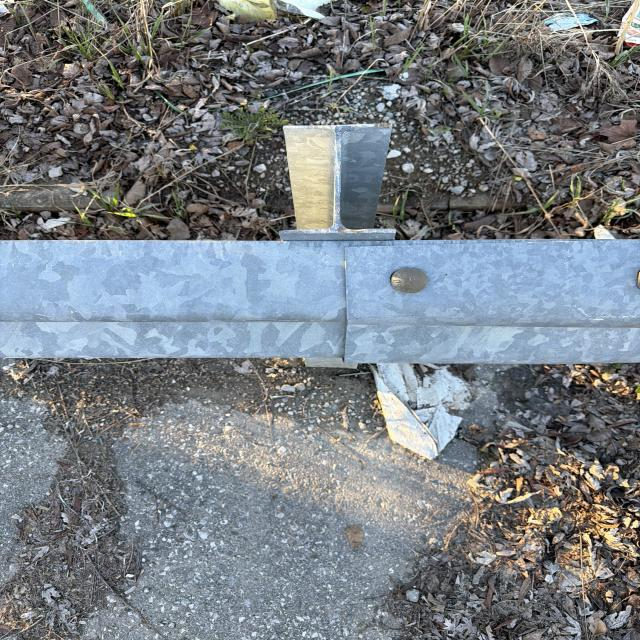Guard rail: (22, 147, 630, 354)
